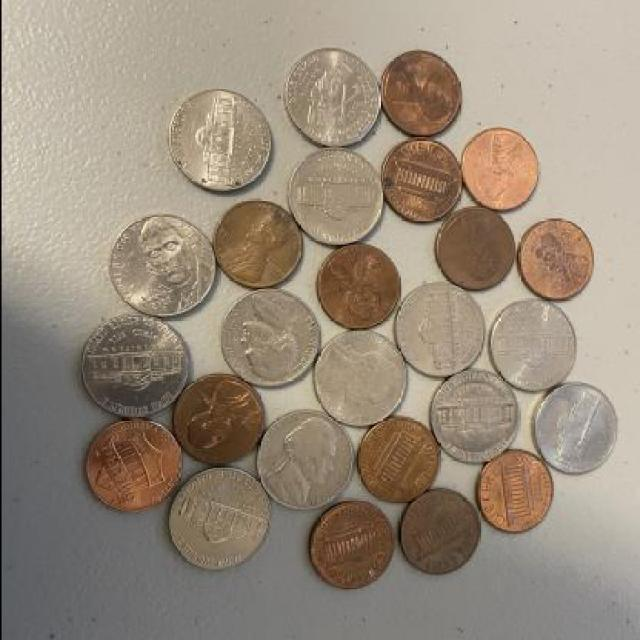Nickel: (104, 212, 218, 317), (78, 314, 190, 418), (168, 86, 272, 192), (168, 466, 272, 571), (254, 410, 356, 512), (283, 44, 382, 148), (224, 288, 318, 390), (312, 330, 408, 428), (394, 282, 486, 381), (290, 149, 384, 245), (530, 380, 618, 476), (429, 369, 518, 463), (488, 298, 576, 391)
Penny: (82, 420, 184, 516), (173, 374, 264, 466), (308, 500, 396, 592), (314, 243, 402, 332), (214, 202, 303, 290), (377, 48, 463, 138), (397, 486, 480, 577), (356, 414, 438, 504), (380, 137, 465, 223), (512, 216, 592, 302), (434, 208, 517, 290), (477, 446, 554, 534), (463, 128, 540, 214)
